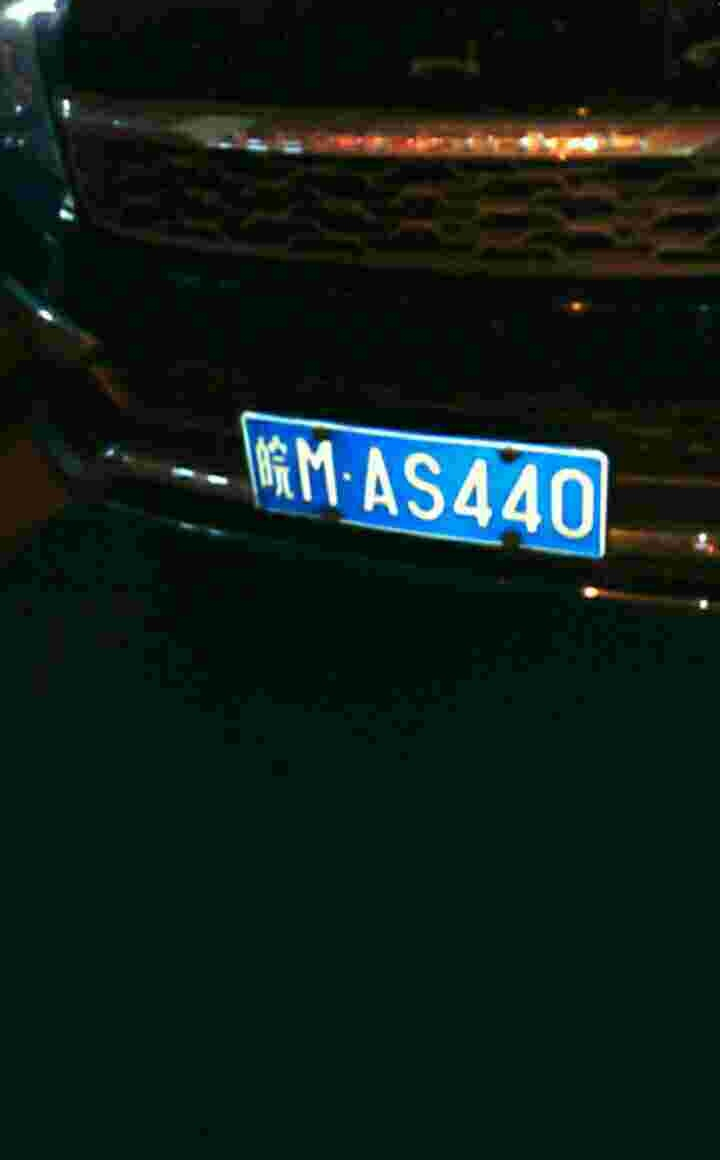car: (239, 416, 603, 571)
